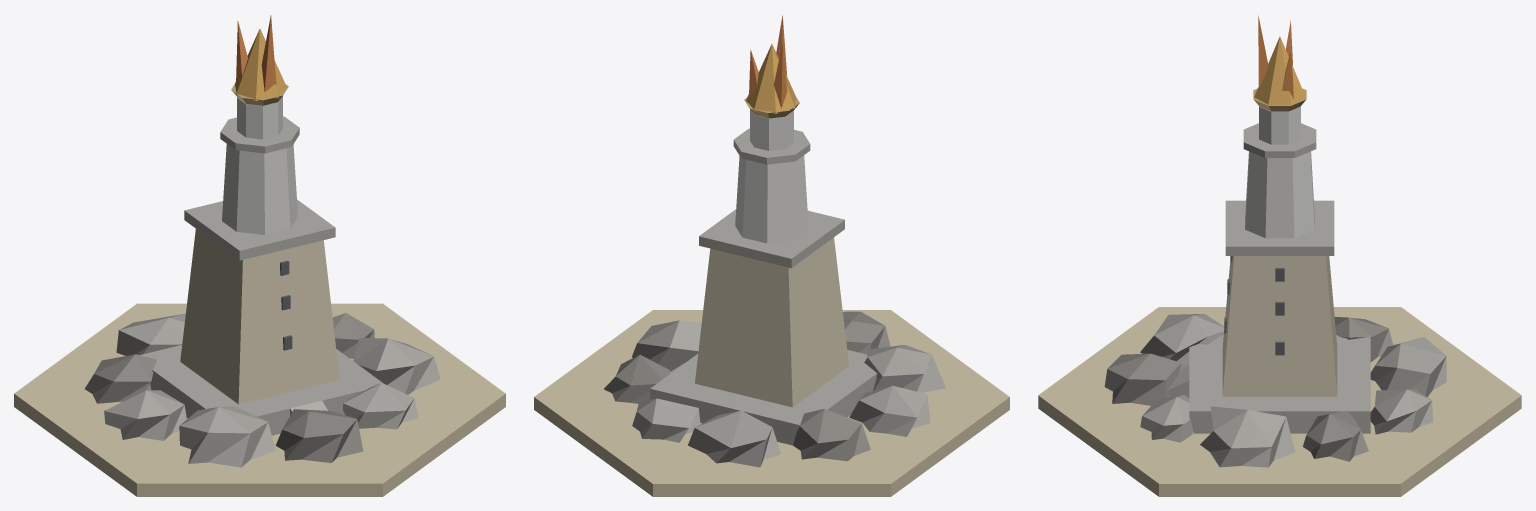
File: great-lighthouse.glb
3 renders of one model, left to right at view 1: azimuth 30°, elevation 25°; view 2: azimuth 150°, elevation 25°; view 3: azimuth 270°, elevation 25°, orthographic. The views are drawn at different scales.
Parts seen in each view (by area): view 1: LOD0; view 2: LOD0; view 3: LOD0.
Part boxes in pixels (box(x1,y1,x2,y2)): LOD0: box(14, 15, 505, 496); LOD0: box(534, 15, 1009, 496); LOD0: box(1038, 15, 1521, 496).
Size of what is drawn, in the model's own units: 1.39 by 1.46 by 1.6.
